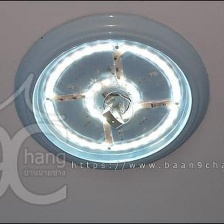light_bulb: (39, 38, 185, 156)
